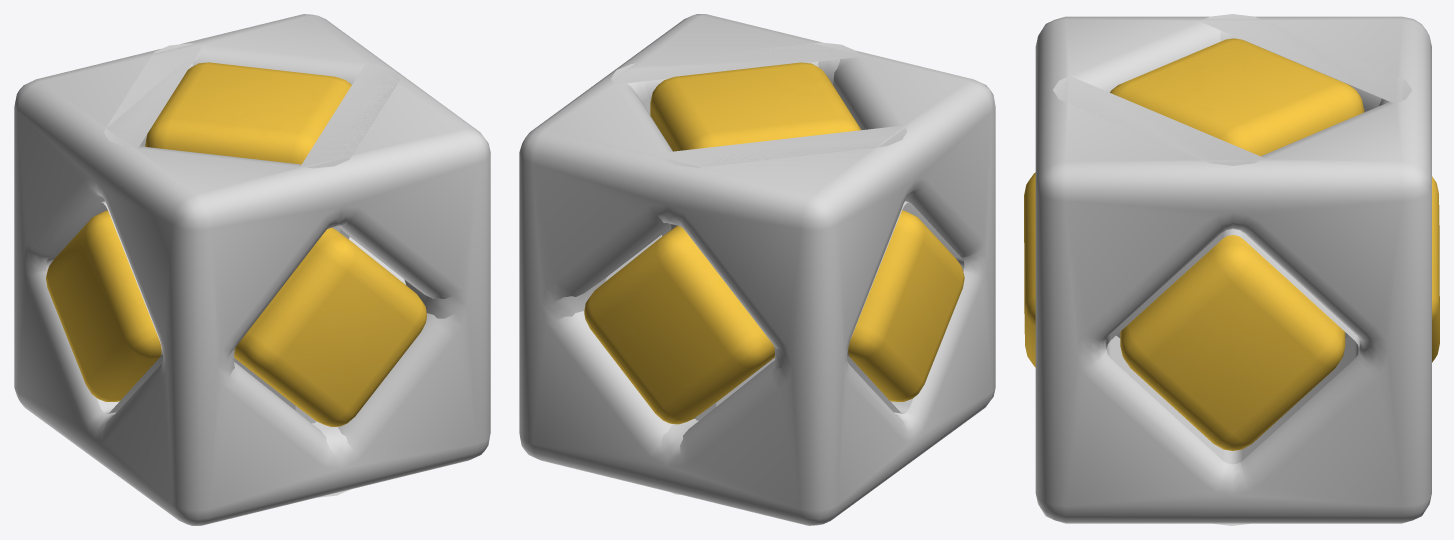
The model's file is CrystalRock.fbx.
3 renders of one model, left to right at view 1: azimuth 30°, elevation 25°; view 2: azimuth 150°, elevation 25°; view 3: azimuth 270°, elevation 25°, orthographic. The views are drawn at different scales.
Visible parts, largest first — view 1: Cube, Cube.001; view 2: Cube, Cube.001; view 3: Cube, Cube.001.
Boxes of the visible parts, box(x1,y1,x2,y2) form: Cube: box(14, 14, 490, 525); Cube.001: box(46, 62, 426, 426); Cube: box(519, 14, 995, 525); Cube.001: box(584, 62, 964, 424); Cube: box(1035, 14, 1431, 525); Cube.001: box(1024, 38, 1439, 450).
Size of the model in its own units: 2.11 by 2.07 by 2.1.
Materials: 2 (1 with a texture image).
